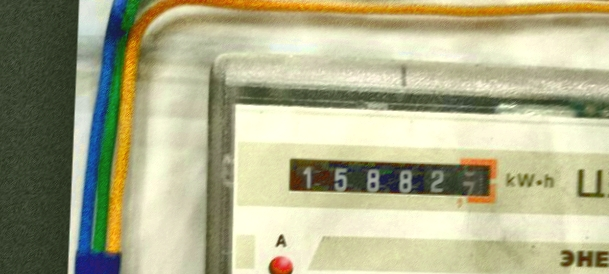1: (300, 162, 315, 191)
2: (427, 168, 446, 195)
5: (331, 165, 350, 196)
7: (460, 179, 474, 196)
8: (396, 167, 414, 196), (363, 167, 381, 195)
screen: (276, 142, 504, 212)
